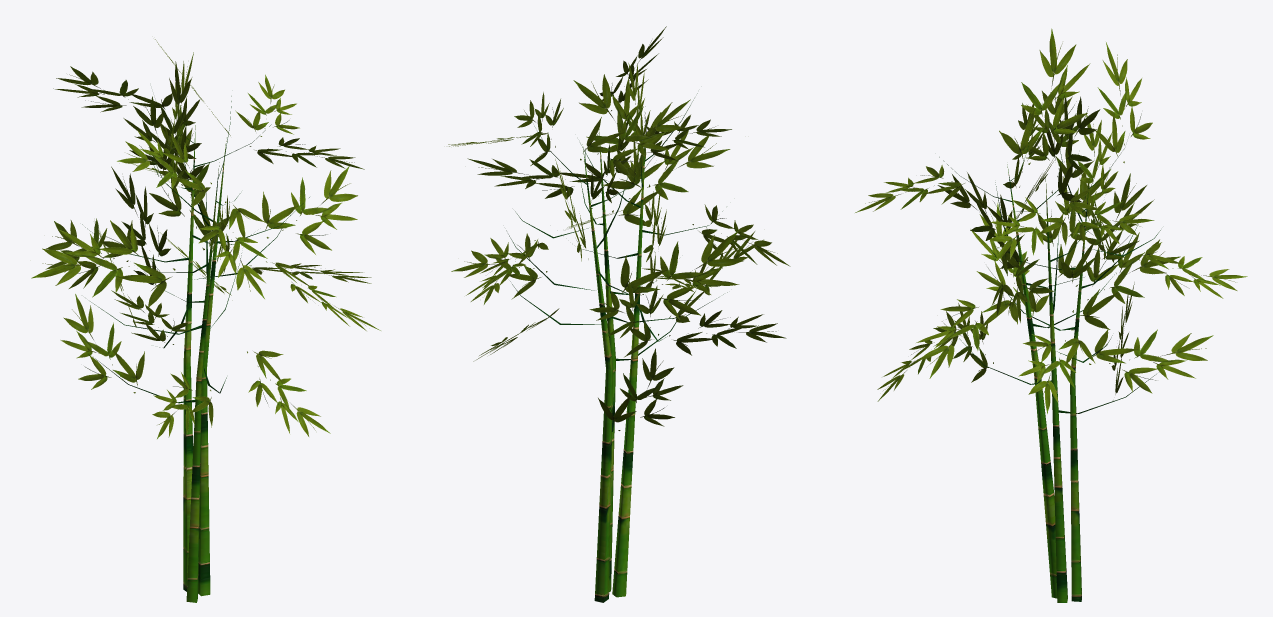
Rendered from Bamboo2.fbx.
The picture shows the model from 3 angles, left to right: view 1: azimuth 30°, elevation 25°; view 2: azimuth 150°, elevation 25°; view 3: azimuth 270°, elevation 25°; orthographic projection. The views are drawn at different scales.
Visible parts, largest first — view 1: tree.001; view 2: tree.001; view 3: tree.001.
Part boxes in pixels (x1,y1,x2,y2): tree.001: [31, 39, 380, 602]; tree.001: [448, 26, 790, 602]; tree.001: [855, 28, 1247, 602].
Size of the model in its own units: 114 by 176 by 119.
